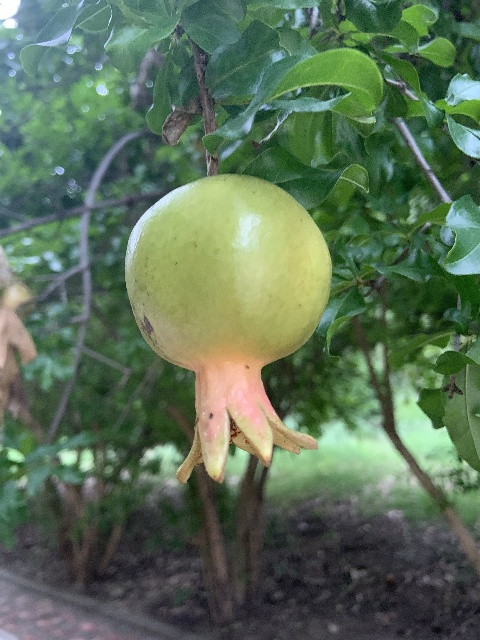mid-growth: (123, 174, 332, 484)
